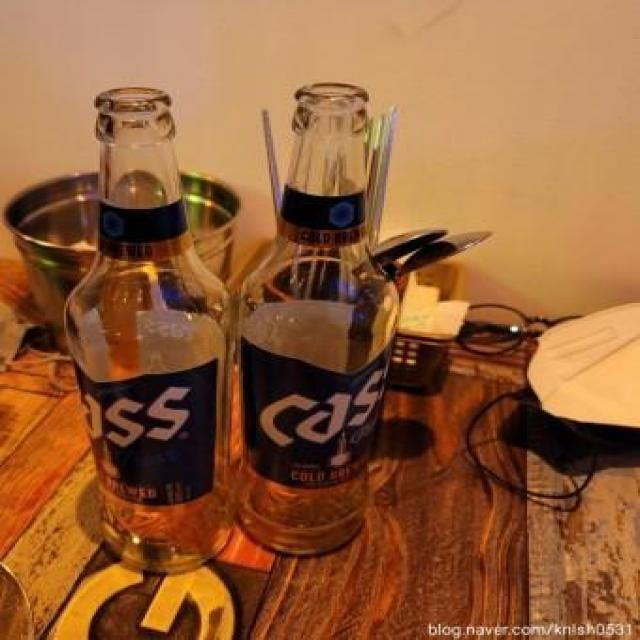beer-bottle: (56, 83, 235, 578), (234, 75, 383, 560)
